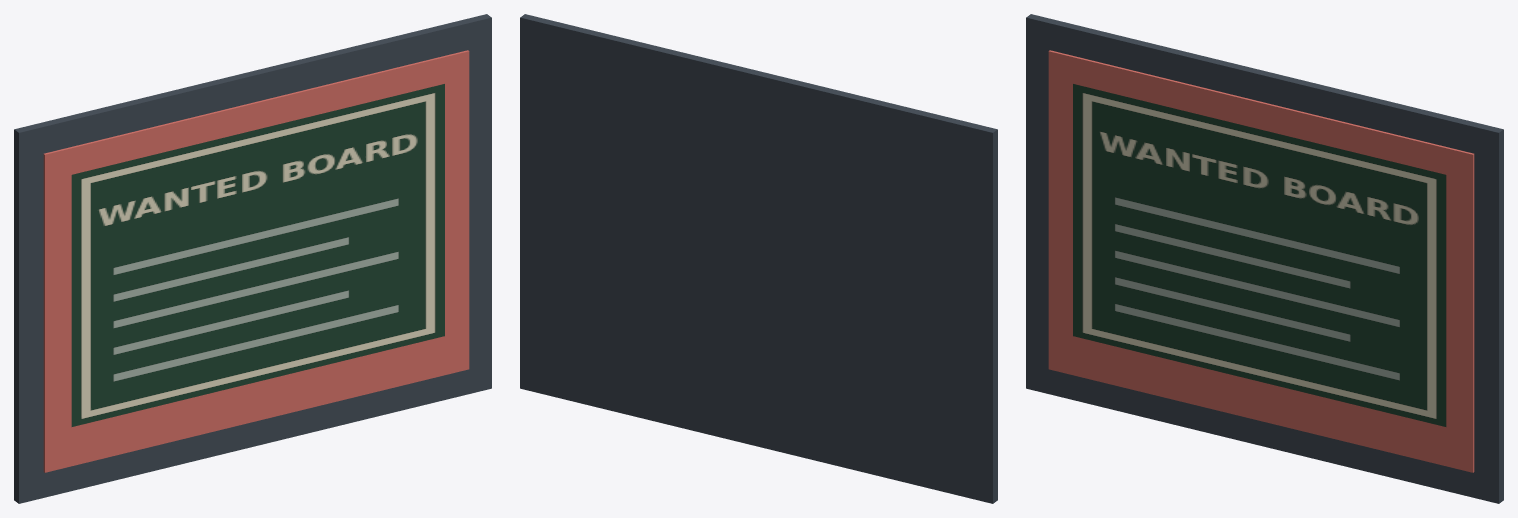
File: wanted_board.glb
The picture shows the model from 3 angles, left to right: view 1: azimuth 30°, elevation 25°; view 2: azimuth 150°, elevation 25°; view 3: azimuth 330°, elevation 25°; orthographic projection.
Size of the model in its own units: 1.18 by 0.882 by 0.0336.
Materials: 2 (2 with a texture image).
